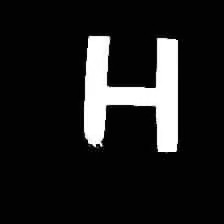LTR_H: (72, 22, 183, 157)
